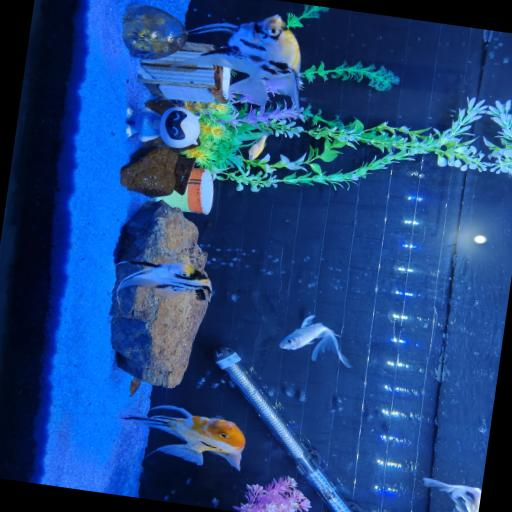Fish: (173, 15, 299, 108), (123, 405, 244, 470), (115, 261, 211, 300), (279, 315, 350, 367), (422, 478, 480, 511), (248, 134, 267, 160)
